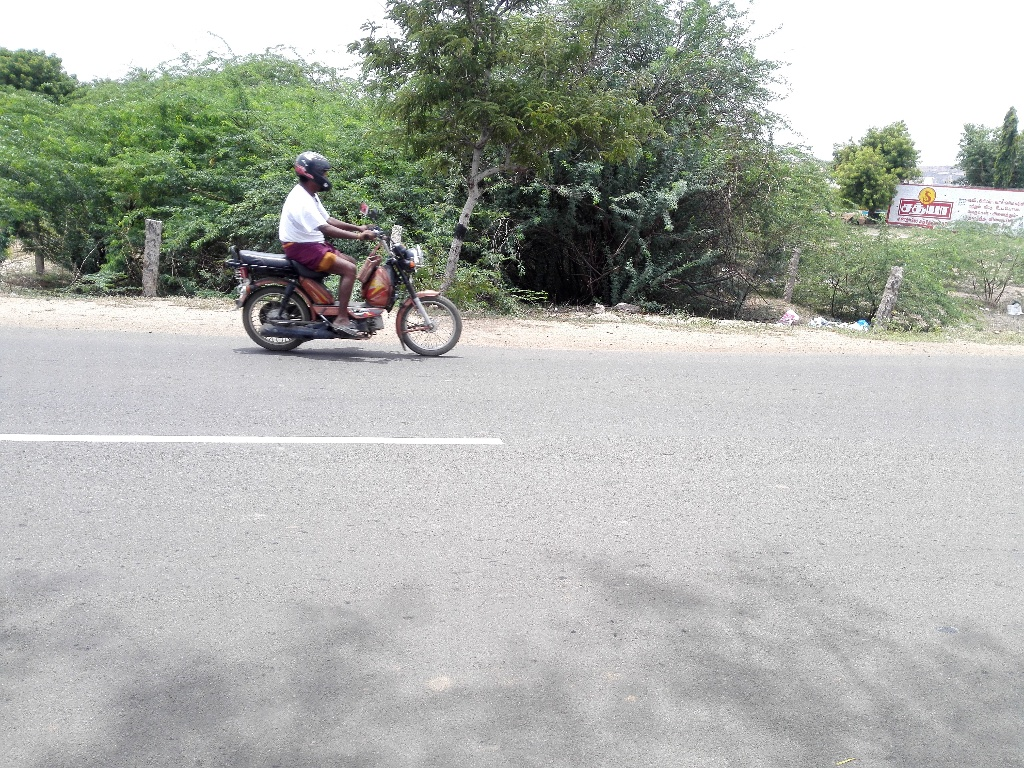biker: (218, 108, 490, 377)
helmet: (288, 140, 343, 202)
